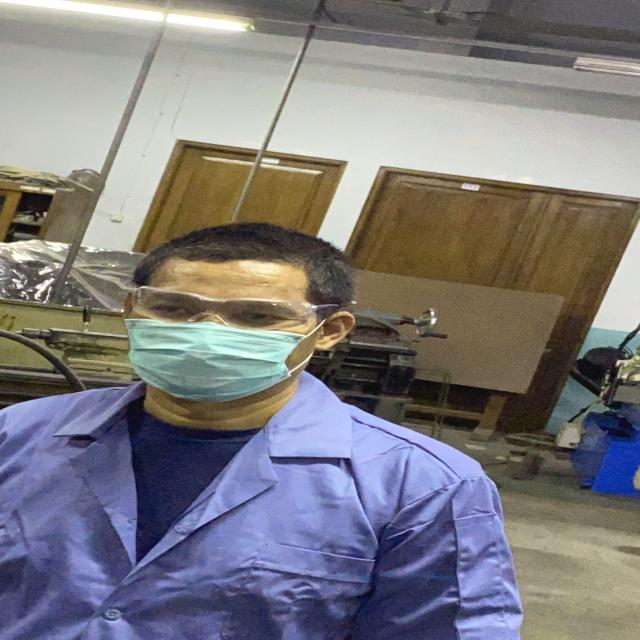face_mask: (116, 282, 332, 404)
glasses: (112, 282, 353, 332)
head_nohelmet: (129, 216, 357, 283)
person: (0, 222, 537, 640)
